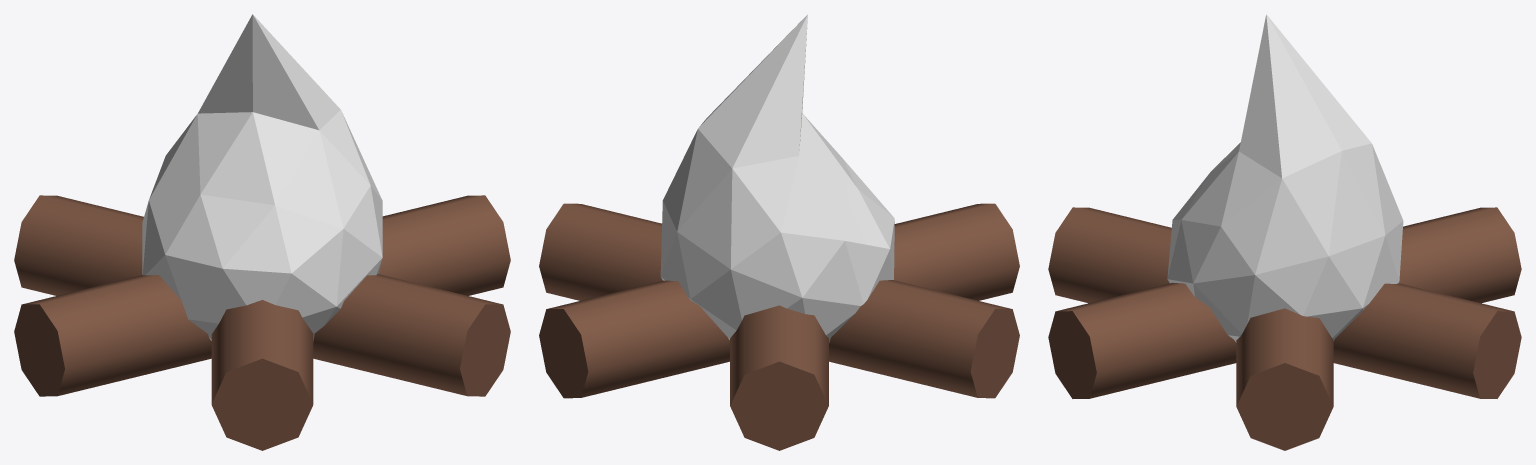
File: fire.fbx.fbx
The picture shows the model from 3 angles, left to right: view 1: azimuth 30°, elevation 25°; view 2: azimuth 150°, elevation 25°; view 3: azimuth 270°, elevation 25°; orthographic projection. The views are drawn at different scales.
Visible parts, largest first — view 1: Icosphere, Cylinder.032, Cylinder.031, Cylinder.033; view 2: Icosphere, Cylinder.033, Cylinder.031, Cylinder.032; view 3: Icosphere, Cylinder.032, Cylinder.033, Cylinder.031.
Boxes of the visible parts, x1,y1,x2,y2 form: Icosphere: [142, 14, 382, 341]; Cylinder.032: [14, 195, 510, 396]; Cylinder.031: [14, 195, 510, 396]; Cylinder.033: [211, 300, 313, 450]; Icosphere: [660, 14, 894, 342]; Cylinder.033: [539, 203, 1019, 398]; Cylinder.031: [539, 203, 1019, 398]; Cylinder.032: [730, 305, 828, 450]; Icosphere: [1167, 14, 1403, 342]; Cylinder.032: [1048, 207, 1521, 398]; Cylinder.033: [1048, 207, 1521, 398]; Cylinder.031: [1236, 308, 1333, 450].
Size of the model in its own units: 64.31 by 48.44 by 62.07.
